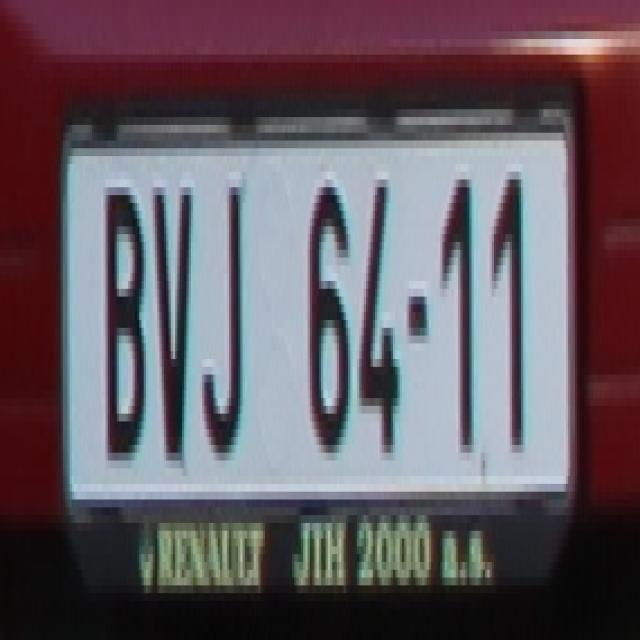1: (492, 179, 530, 445), (440, 188, 476, 460)
4: (355, 179, 400, 445)
6: (306, 164, 350, 437)
B: (98, 180, 148, 468)
V: (152, 172, 195, 445)
